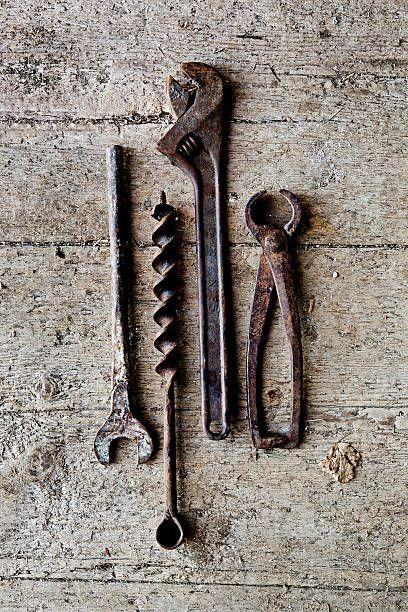metal: (156, 57, 237, 447), (90, 144, 159, 472), (241, 186, 313, 459), (149, 190, 190, 551)
